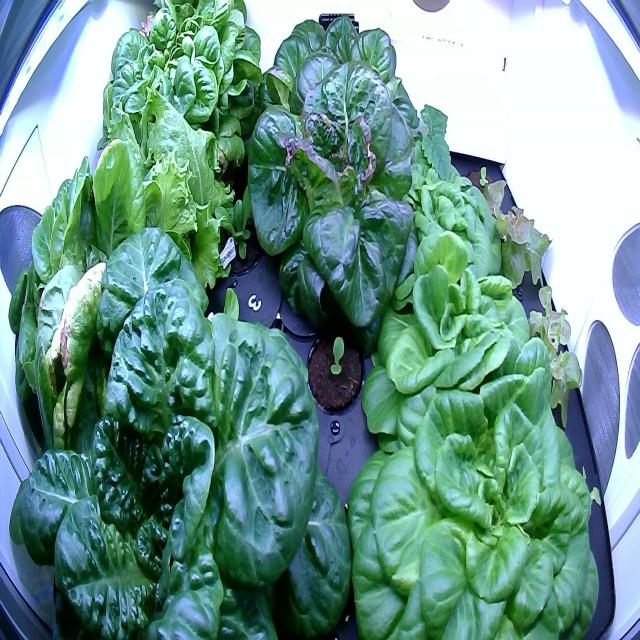Ready: (4, 216, 357, 634), (5, 132, 243, 487), (243, 50, 432, 343), (90, 0, 264, 180), (246, 8, 423, 181)
germination: (297, 315, 371, 425), (460, 158, 504, 215)
young: (339, 342, 605, 636), (351, 230, 559, 470), (358, 132, 518, 312), (200, 170, 265, 288)
